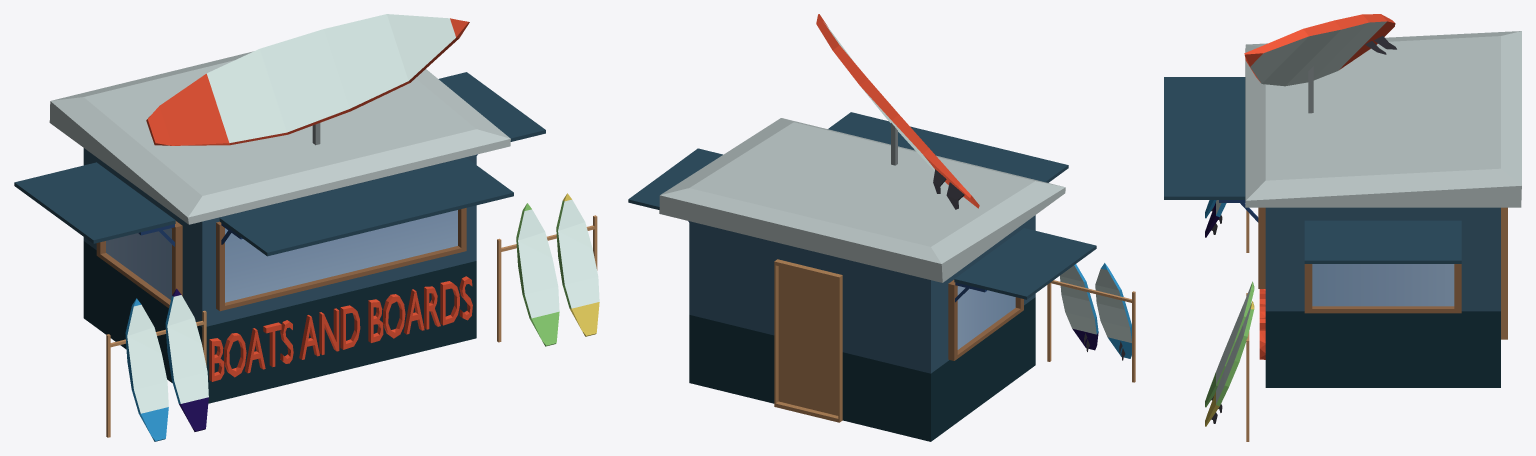
Rendered from Surf_Shop.fbx.
3 views of the same model, side by side, from view 1: azimuth 30°, elevation 25°; view 2: azimuth 150°, elevation 25°; view 3: azimuth 270°, elevation 25° (orthographic). The views are drawn at different scales.
Visible parts, largest first — view 1: Surf_Shop; view 2: Surf_Shop; view 3: Surf_Shop.
Part boxes in pixels (left/top/right/bottom): Surf_Shop: left=14, top=14, right=599, bottom=441; Surf_Shop: left=628, top=14, right=1135, bottom=441; Surf_Shop: left=1164, top=14, right=1521, bottom=441.
Size of the model in its own units: 714 by 459 by 456.
